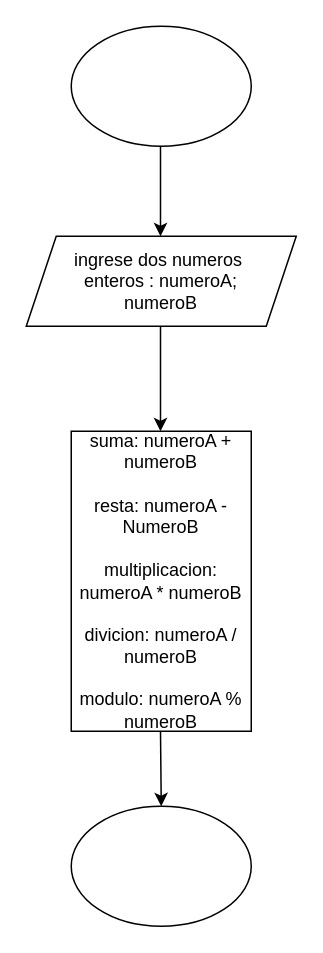
Some shapes in this 323 by 953 pixel diagram are drawn without their labels. Each missing label, with the centre of its shape:
"fin del proceso" belongs at pixel 160 865.
"inicio operaciones matematicas" belongs at pixel 160 85.
